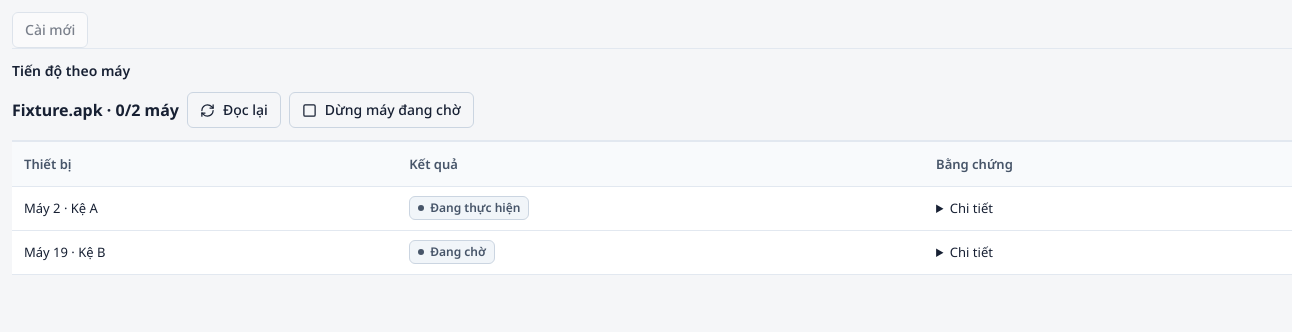
LibraryBatchMonitor durable lifecycle › cancels only queued work and surfaces cancellation errors
Click the button "Dừng máy đang chờ" at (381, 110), box [289,92,474,128]
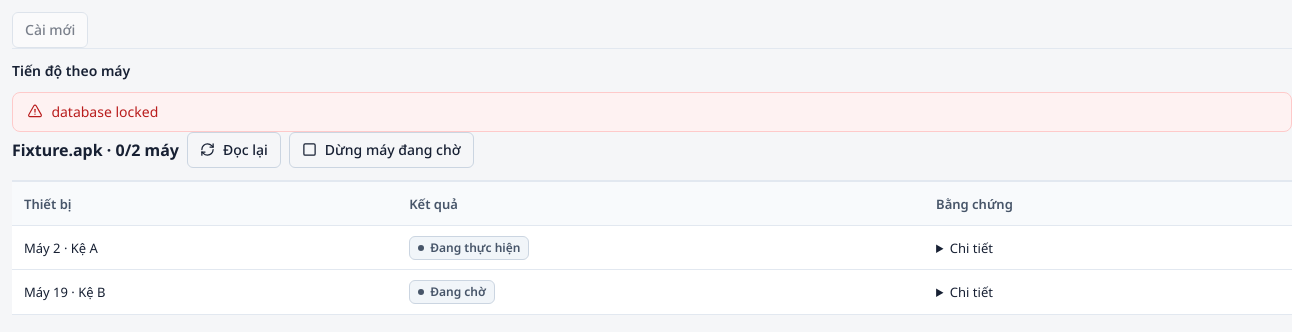
Now the message reads "database locked", box [51,102,158,121]
